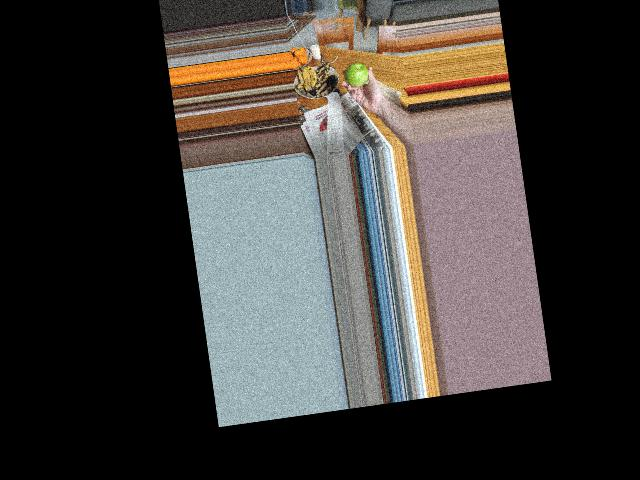apple: (343, 60, 369, 88)
